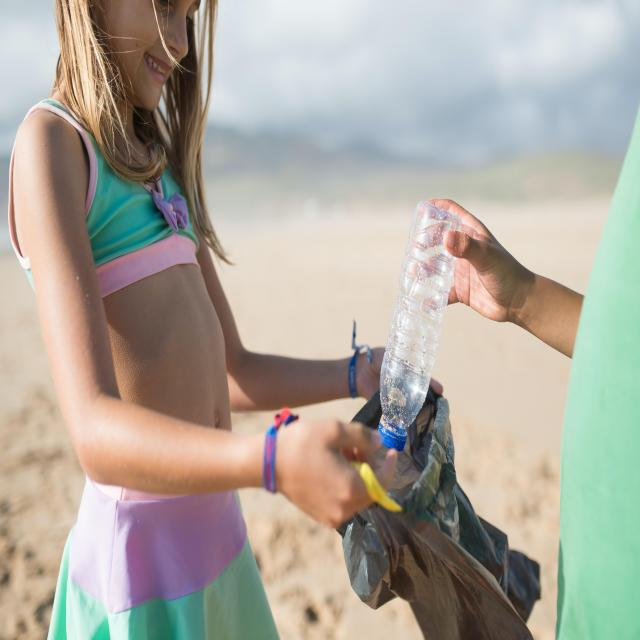bottle-plastic: (379, 199, 459, 453)
